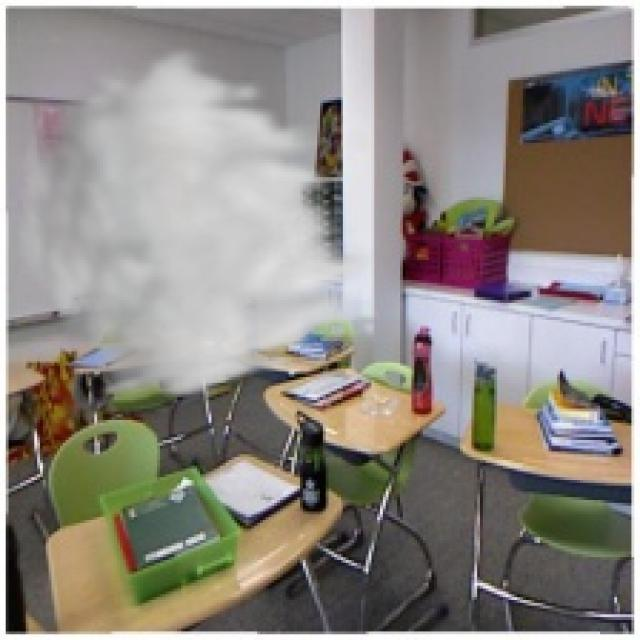smoke: (8, 43, 383, 403)
